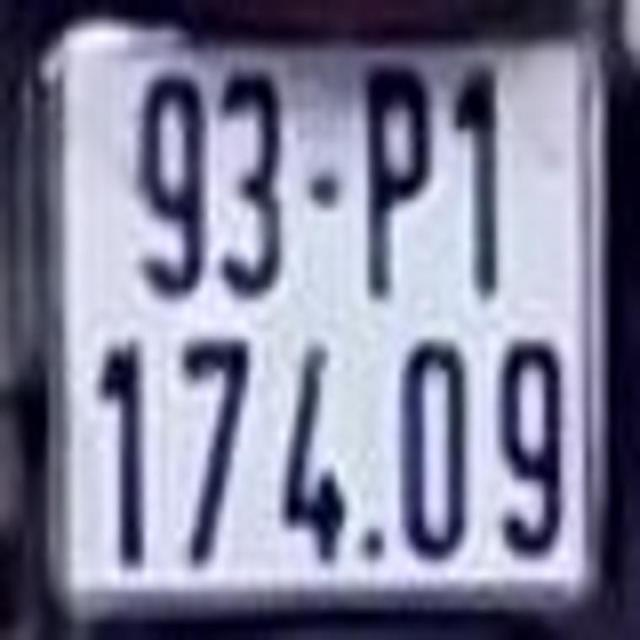0: (398, 335, 470, 562)
1: (449, 64, 510, 299), (94, 339, 154, 570)
3: (217, 68, 285, 297)
4: (280, 341, 351, 565)
7: (178, 334, 250, 568)
9: (135, 71, 207, 298), (497, 333, 565, 560)
P: (360, 61, 435, 301)
